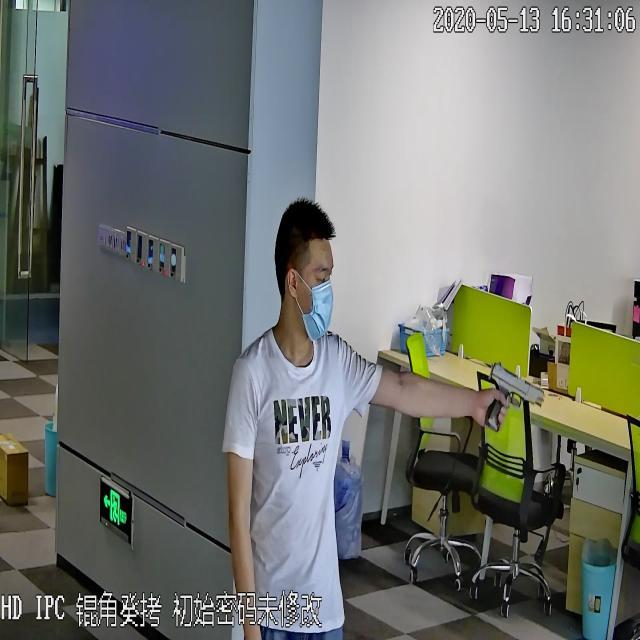gun: (481, 357, 547, 437)
